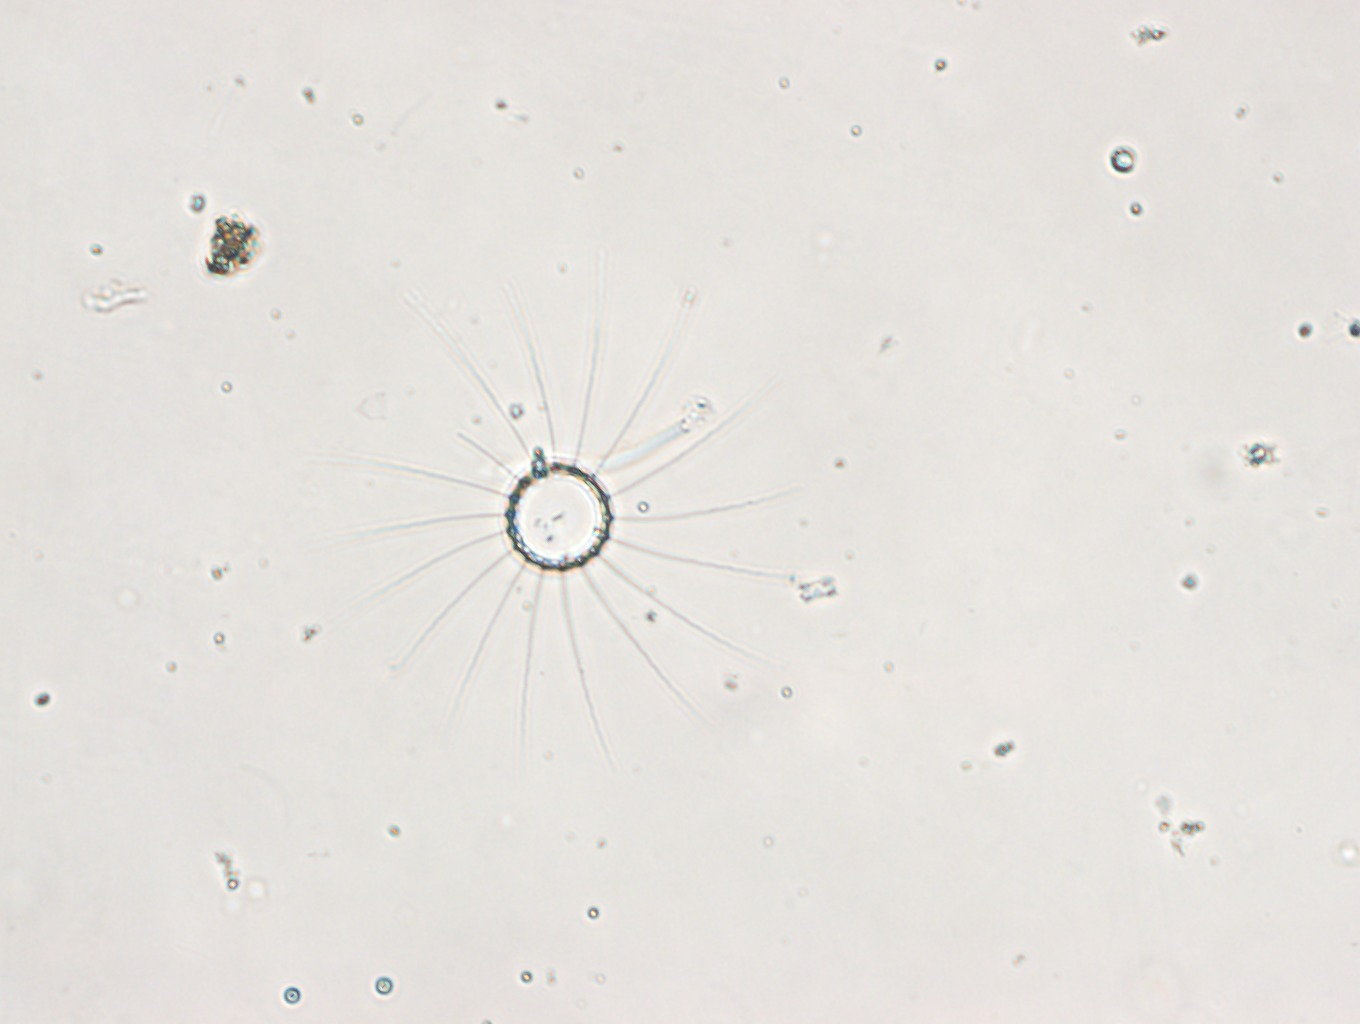bacteriastrum: (307, 272, 818, 763)
